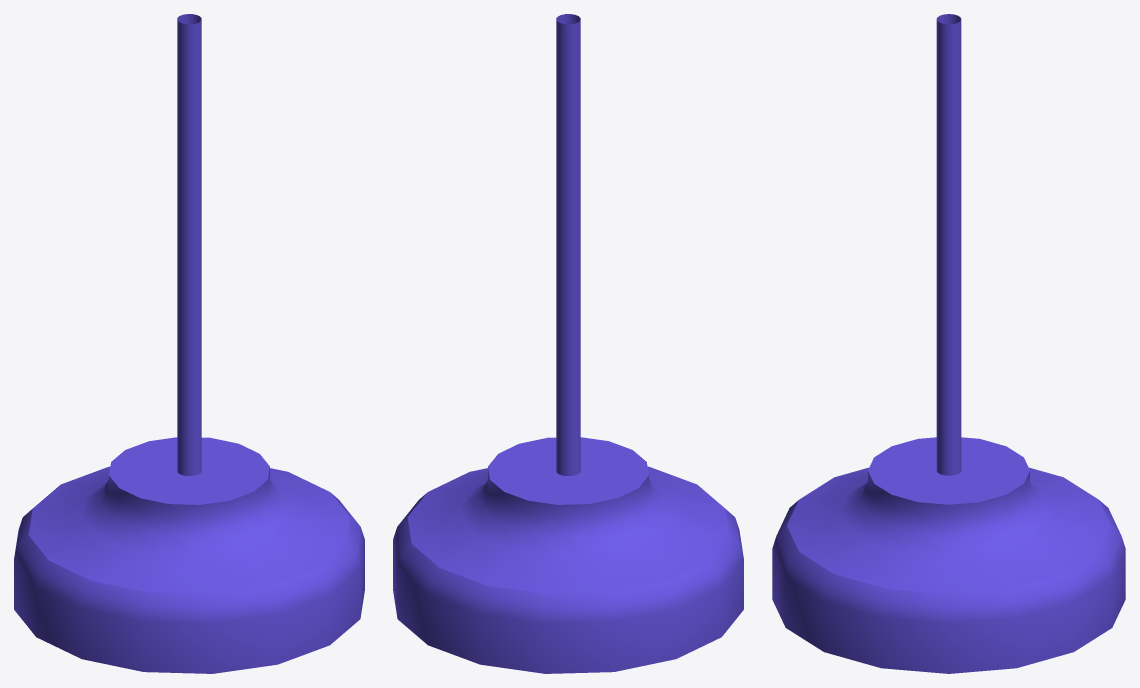
The model's file is LIGHT MODEL.fbx.
The picture shows the model from 3 angles, left to right: view 1: azimuth 30°, elevation 25°; view 2: azimuth 150°, elevation 25°; view 3: azimuth 270°, elevation 25°; orthographic projection.
Visible parts, largest first — view 1: Circle; view 2: Circle; view 3: Circle.
Boxes of the visible parts, <box> form: Circle: <box>14,14,364,673</box>; Circle: <box>393,14,743,673</box>; Circle: <box>772,14,1125,673</box>.
Bounding box in the file's own units: 30.42 × 60.53 × 30.42.
